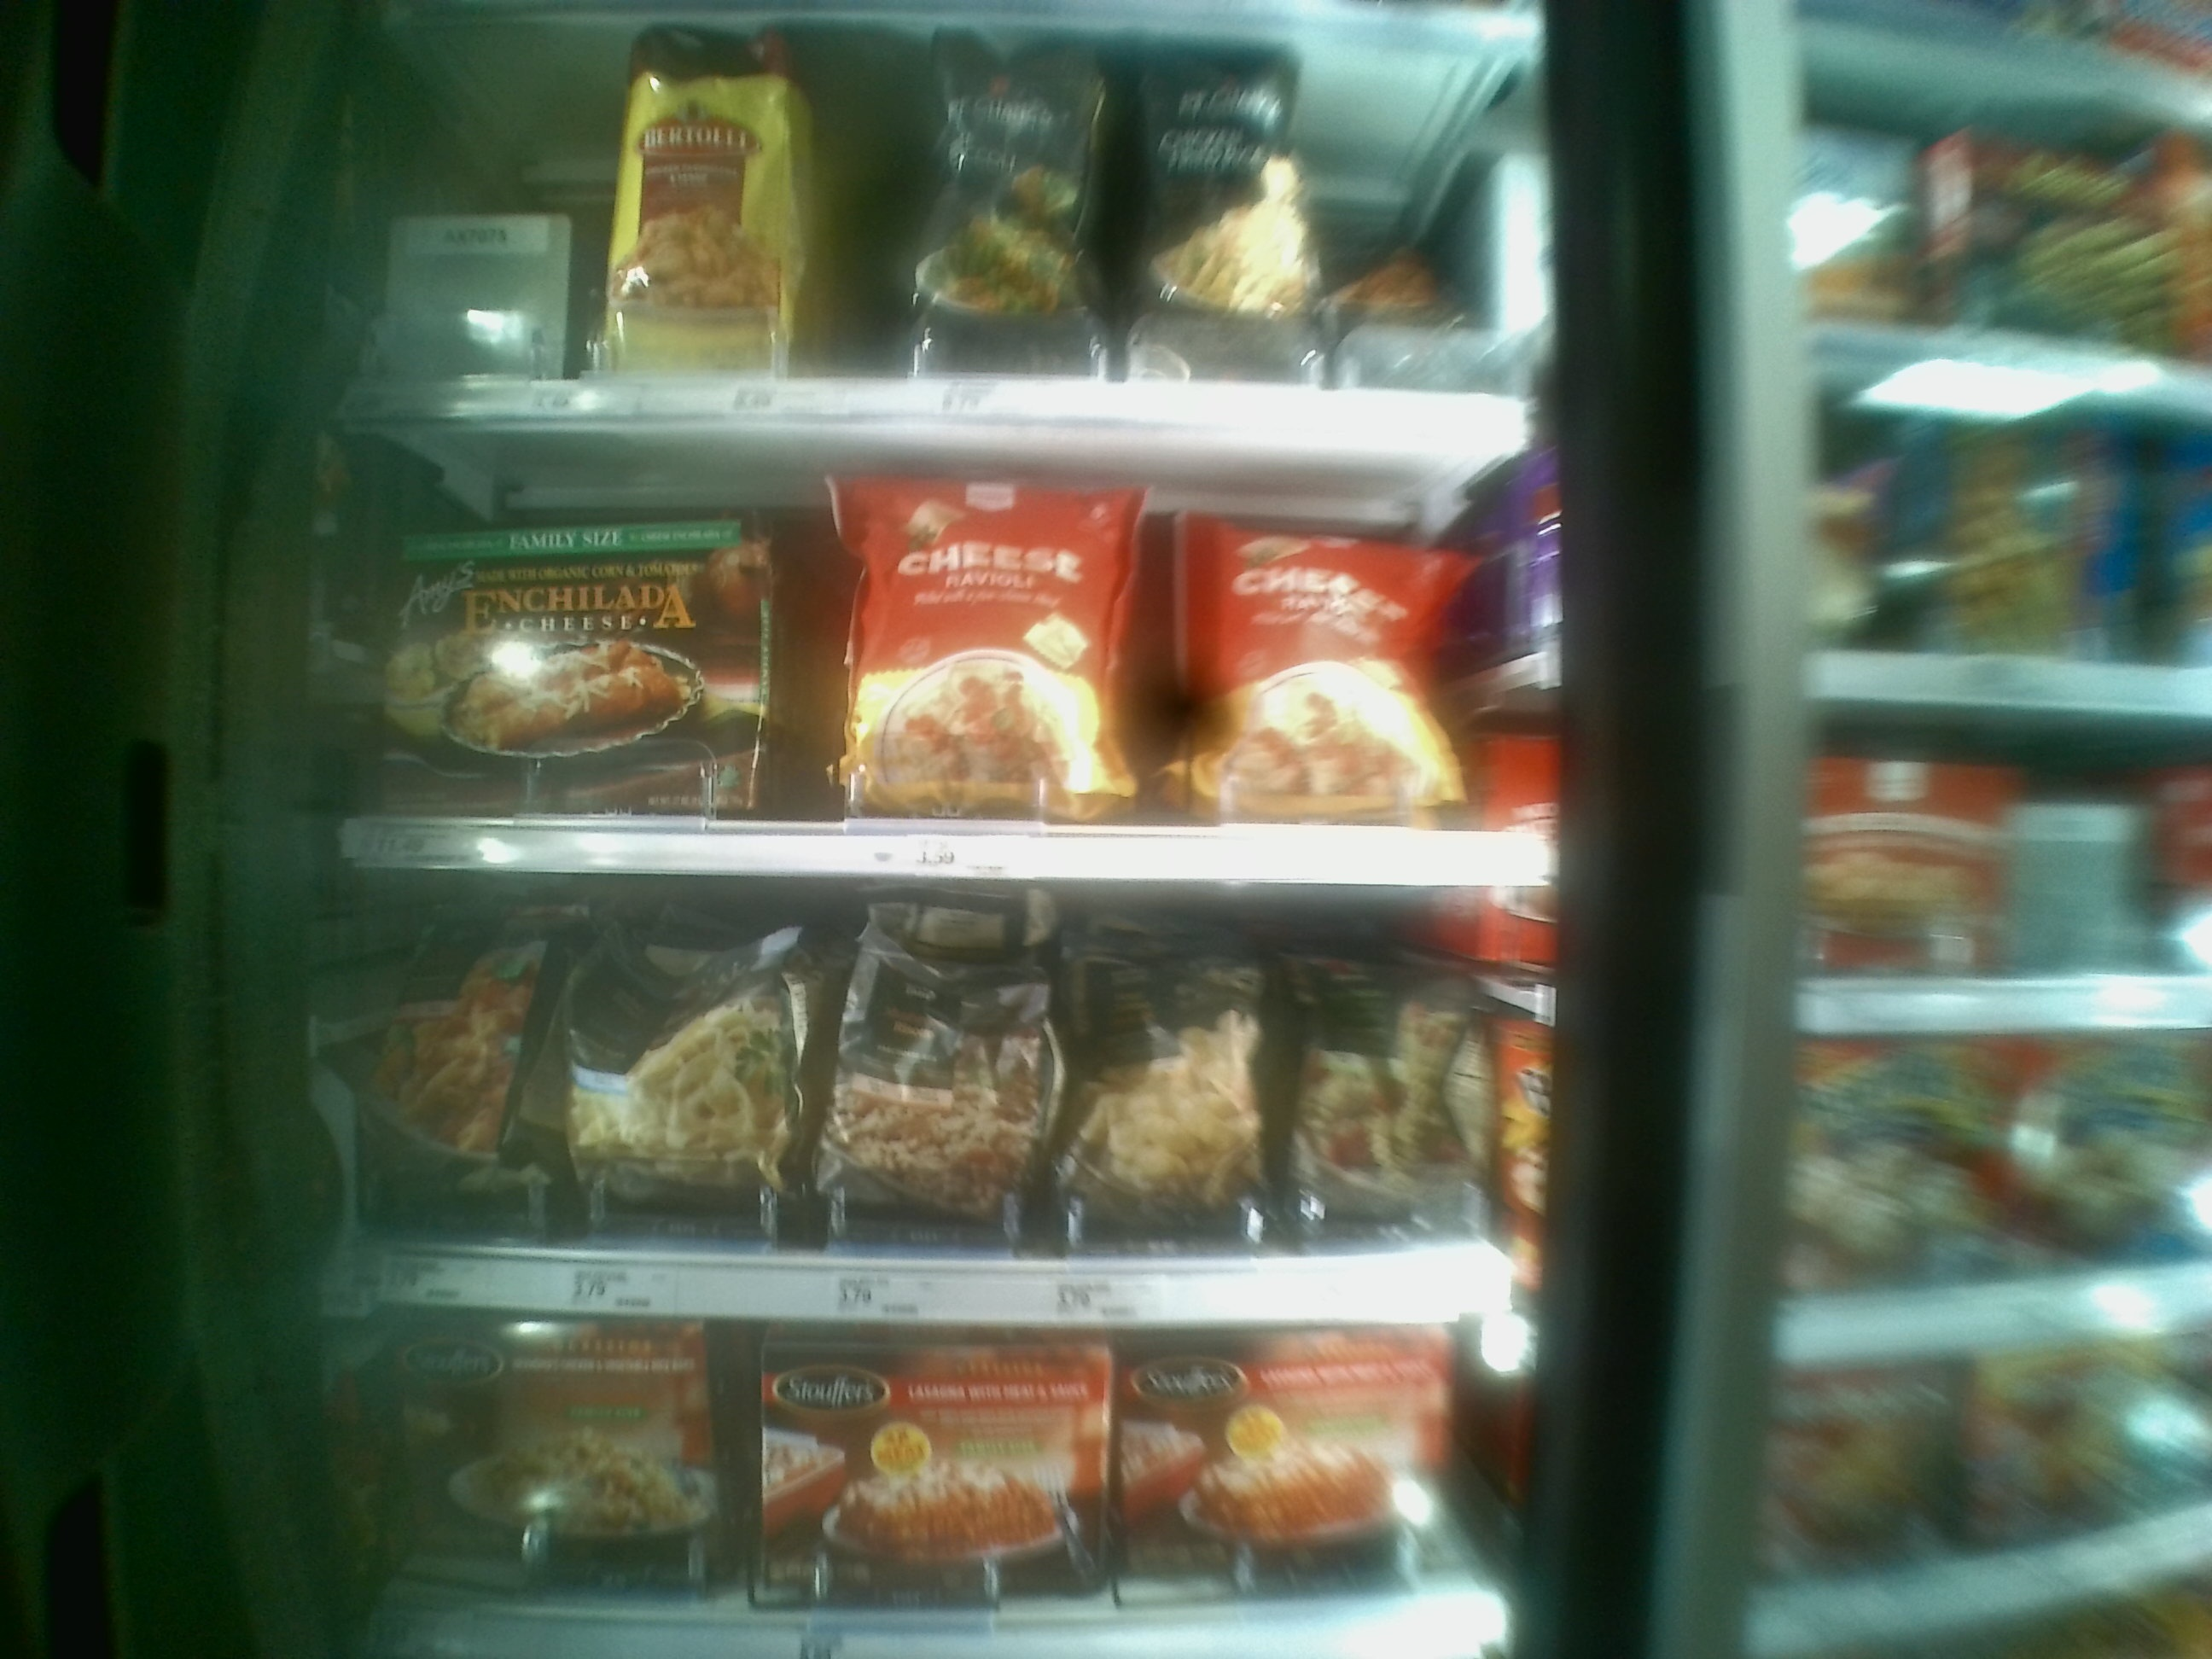frozen-food-shelf: (319, 444, 1543, 885), (338, 880, 1531, 1323)
